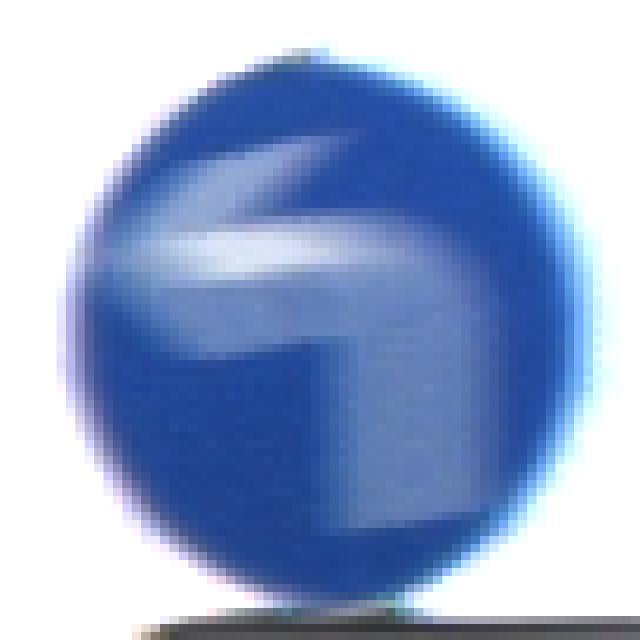compulsary turn left ahead: (76, 50, 576, 600)
